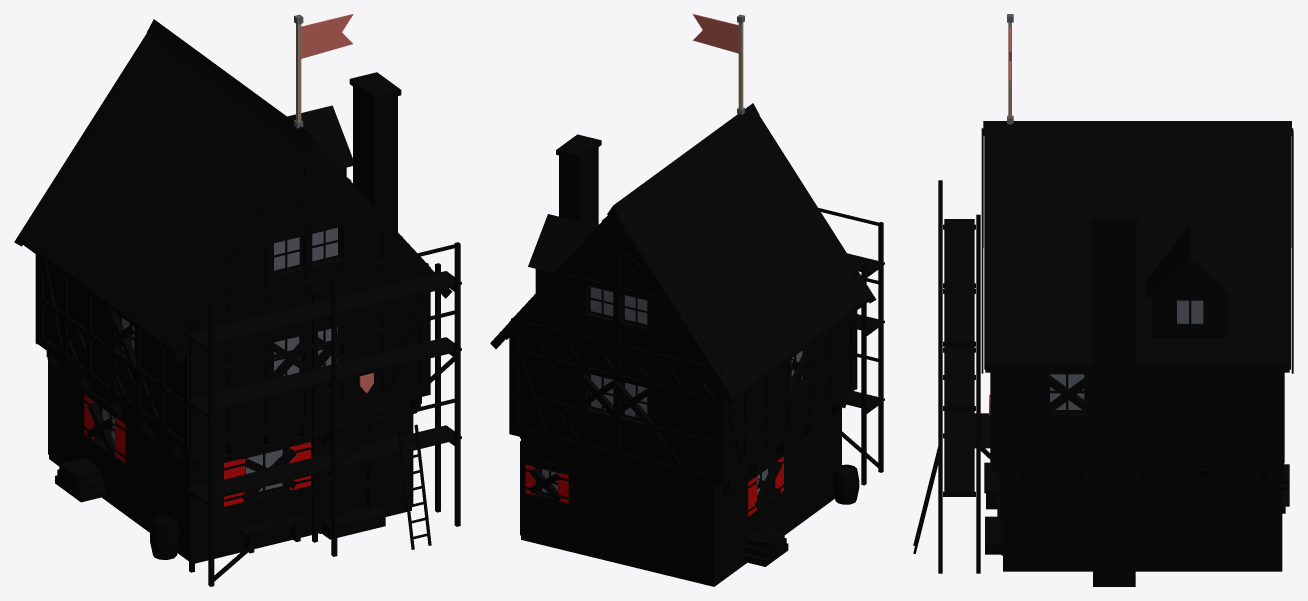
Rendered from wohnhaus_halbling_s2_g1.glb.
The picture shows the model from 3 angles, left to right: view 1: azimuth 30°, elevation 25°; view 2: azimuth 150°, elevation 25°; view 3: azimuth 270°, elevation 25°; orthographic projection. The views are drawn at different scales.
Visible parts, largest first — view 1: Haus, Dach, Geruest, Leerstand, Scheiben, Fahne; view 2: Haus, Dach, Geruest, Leerstand, Scheiben, Fahne; view 3: Dach, Haus, Geruest, Leerstand, Scheiben, Fahne.
Part boxes in pixels (bbox=[...]): Haus: bbox=[35, 37, 430, 563]; Dach: bbox=[14, 19, 452, 362]; Geruest: bbox=[187, 242, 461, 586]; Leerstand: bbox=[86, 310, 378, 504]; Scheiben: bbox=[102, 228, 337, 491]; Fahne: bbox=[294, 14, 353, 128]; Haus: bbox=[509, 118, 859, 586]; Dach: bbox=[490, 103, 876, 406]; Geruest: bbox=[818, 208, 884, 485]; Leerstand: bbox=[529, 342, 816, 508]; Scheiben: bbox=[542, 287, 802, 495]; Fahne: bbox=[693, 14, 744, 114]; Dach: bbox=[981, 121, 1293, 373]; Haus: bbox=[970, 137, 1285, 586]; Geruest: bbox=[913, 180, 980, 573]; Leerstand: bbox=[985, 369, 1289, 519]; Scheiben: bbox=[1050, 300, 1203, 409]; Fahne: bbox=[1007, 14, 1013, 124].
Size of the model in its own units: 6.73 by 11.75 by 8.03.
